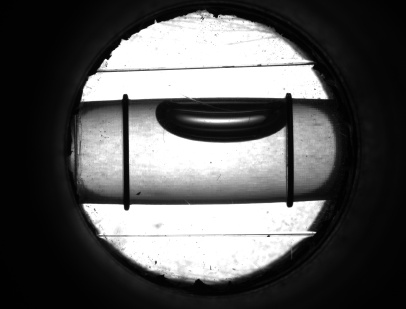line: (119, 111, 132, 186), (281, 132, 298, 188)
